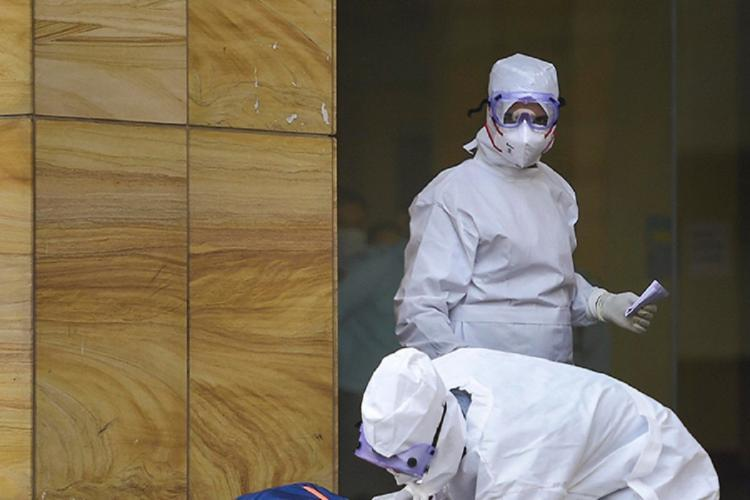Gloves On: (599, 292, 658, 333)
Goggles On: (354, 404, 446, 478), (486, 92, 561, 133), (456, 388, 470, 404)
Hairnet On: (363, 349, 447, 456), (490, 54, 558, 98)
Suit On: (396, 127, 604, 362), (434, 349, 719, 499)
